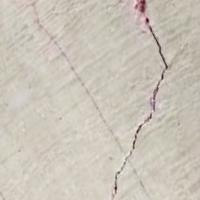crack: (102, 0, 190, 199)
